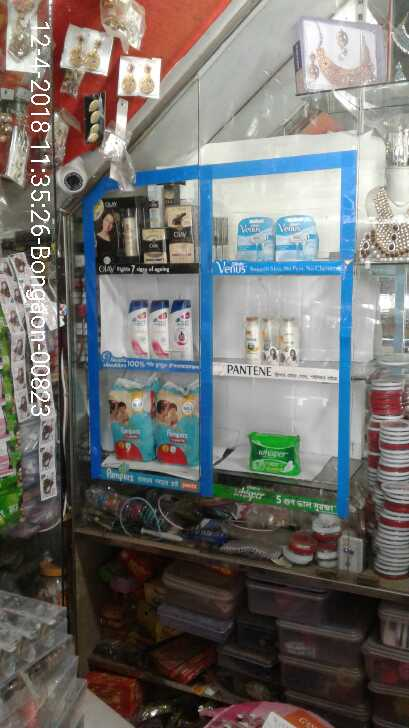venus: (277, 216, 316, 259), (237, 217, 274, 259)
